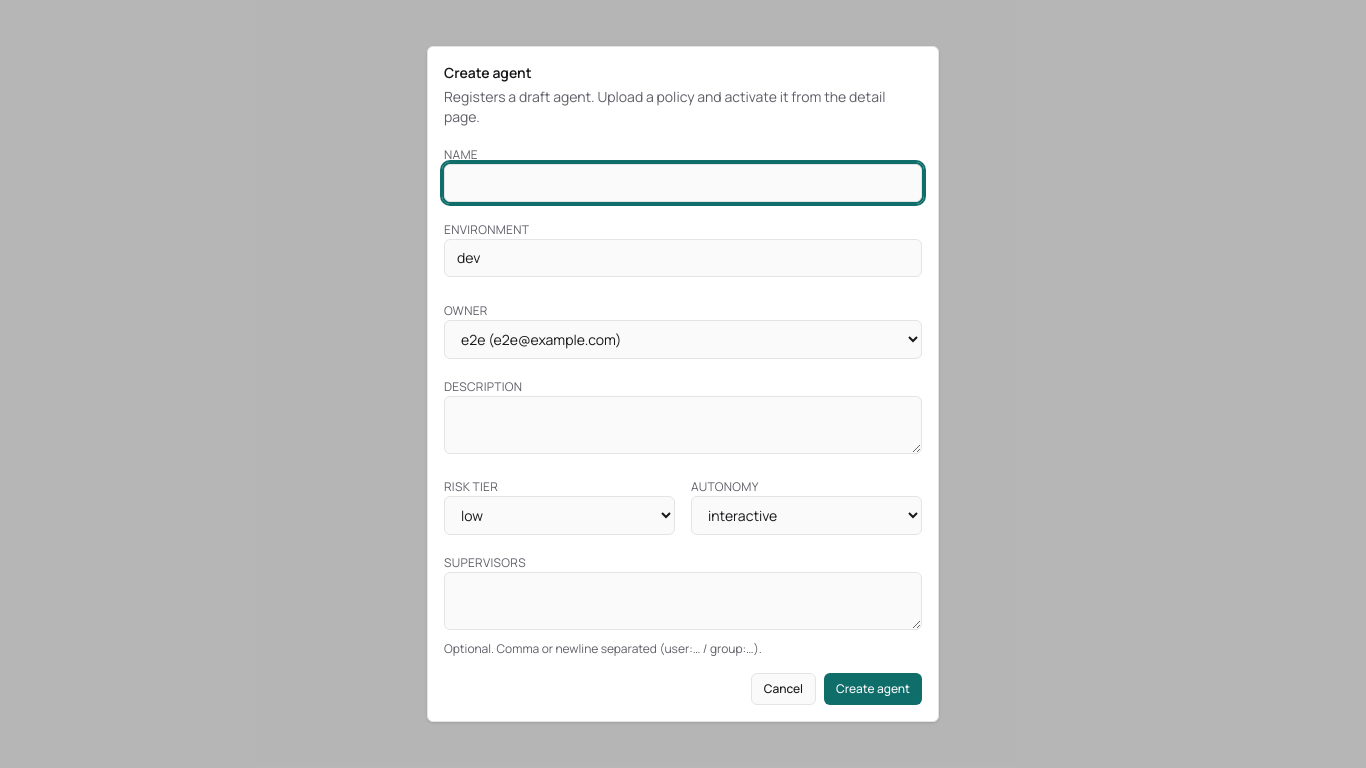
Test: CreateAgentDialog › maps 409 conflict onto the name field
The image size is (1366, 768).
Expected: the dropdown with test id "create-agent-owner" shows "e2e (e2e@example.com)", [444,320,922,359]
In the field with test id "create-agent-name": coordinates (683, 183) [444,164,922,202], type "palette-probe"
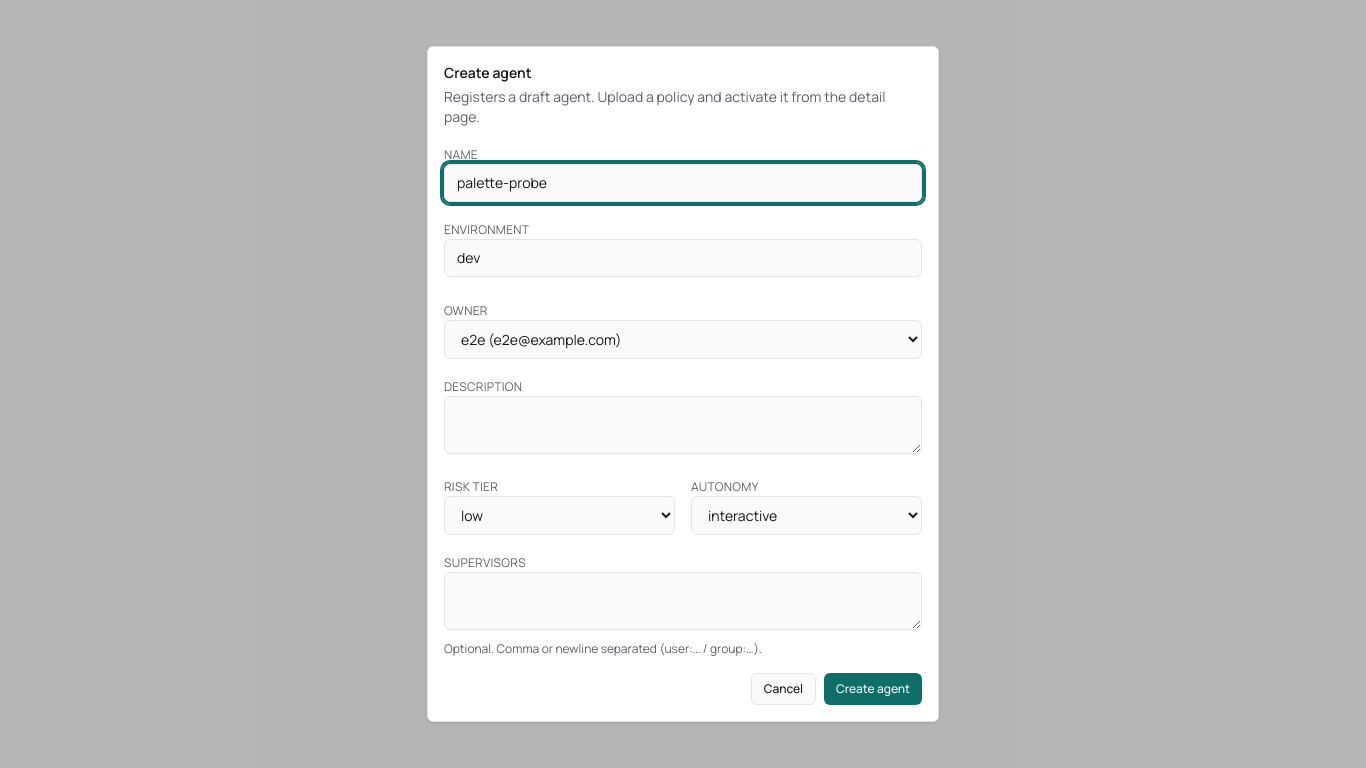
Replace the text in the field with test id "create-agent-environment" with "prod": coordinates (683, 258) [444,239,922,277]
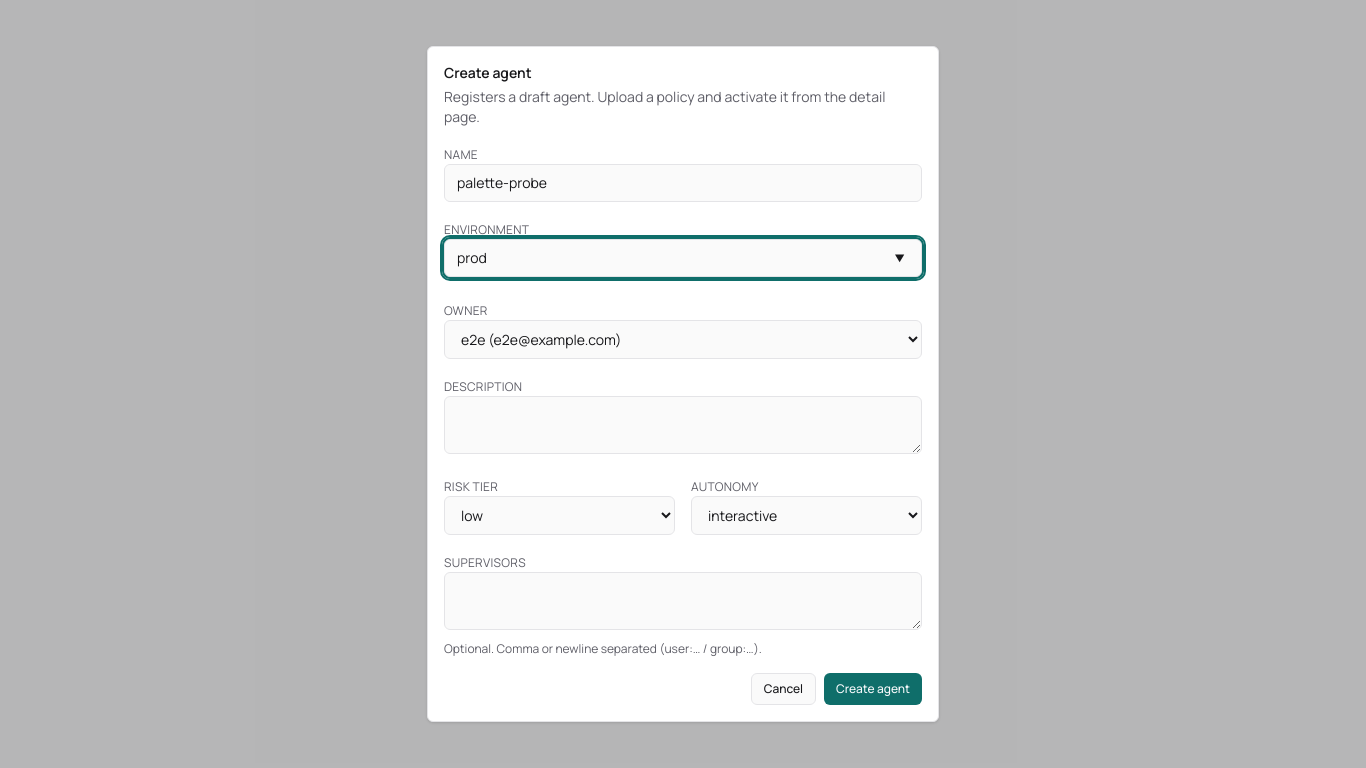
Click the button with test id "create-agent-submit": coordinates (873, 689) [824,673,922,705]
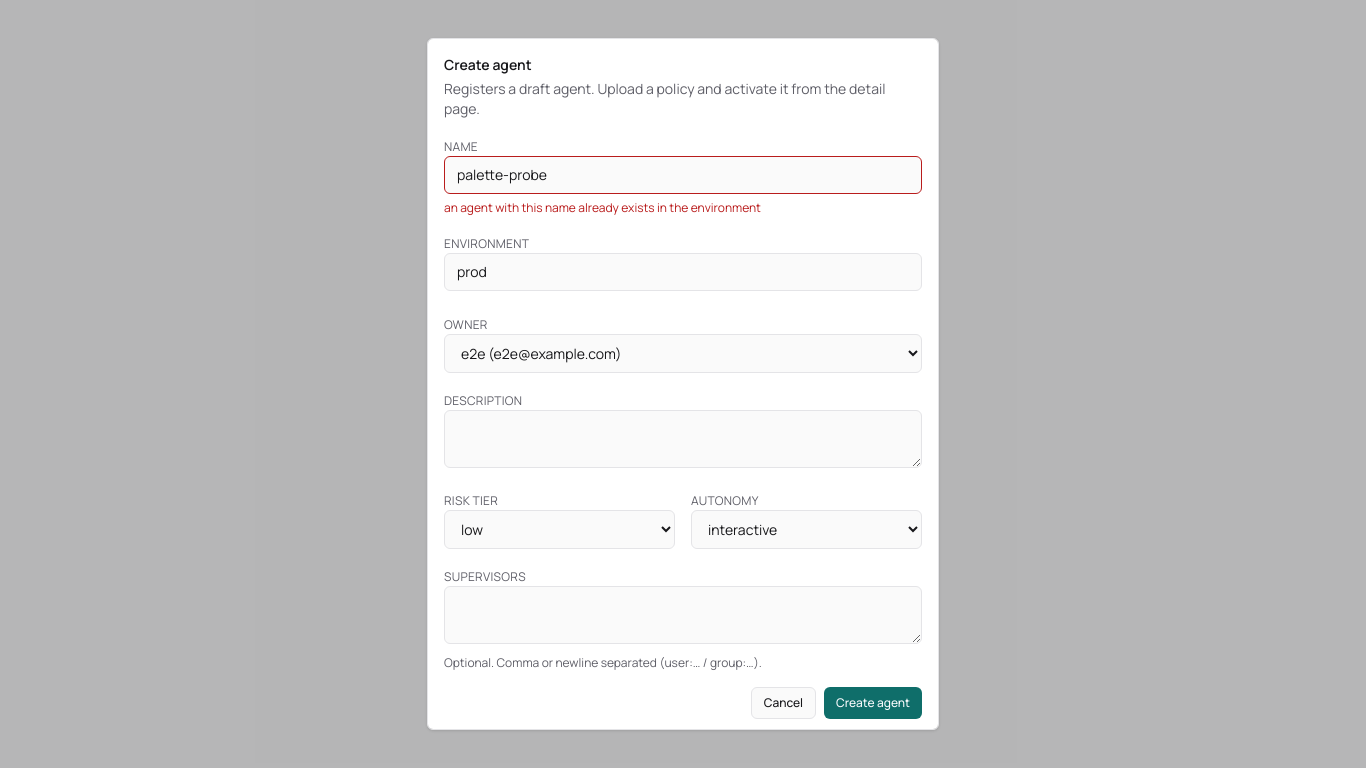
Expected: the message with test id "field-error-create-agent-name" reads "an agent with this name already exists in the environment", [444,199,761,216]
